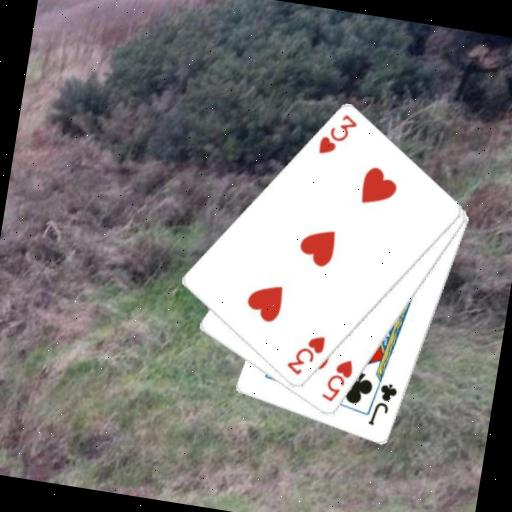3H: (282, 328, 329, 381), (314, 107, 360, 161)
5H: (317, 353, 356, 406)
JC: (365, 378, 401, 430)
